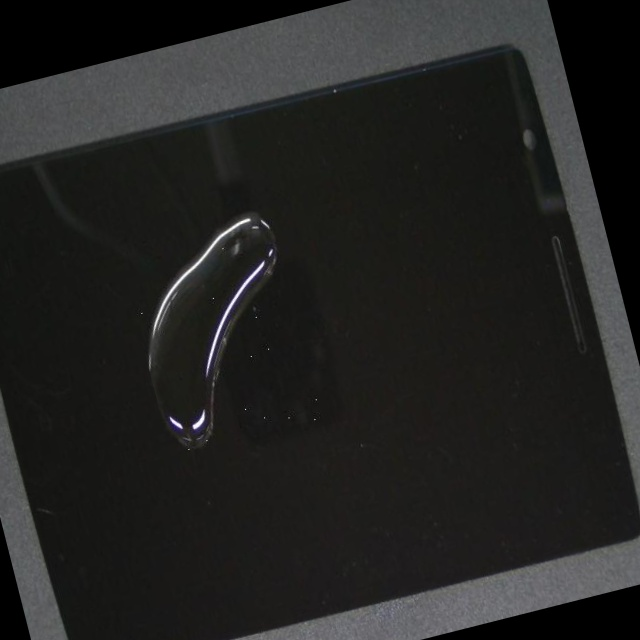oil: (11, 143, 278, 546)
